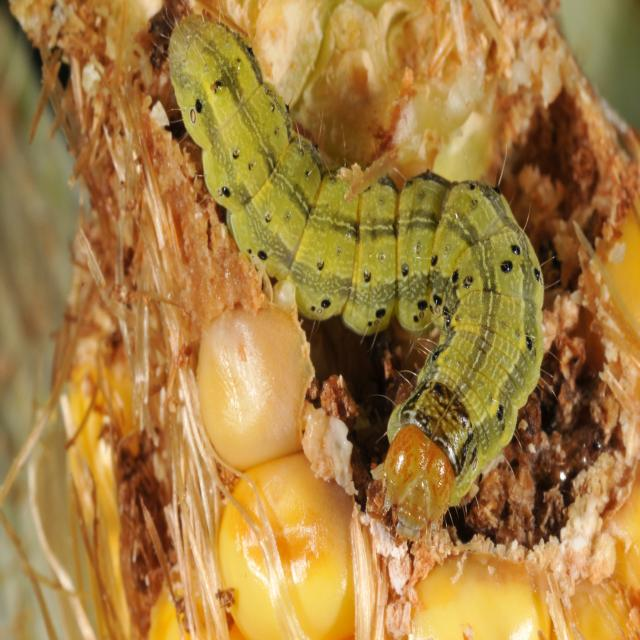cornborer-Larva-: (155, 6, 548, 542)
